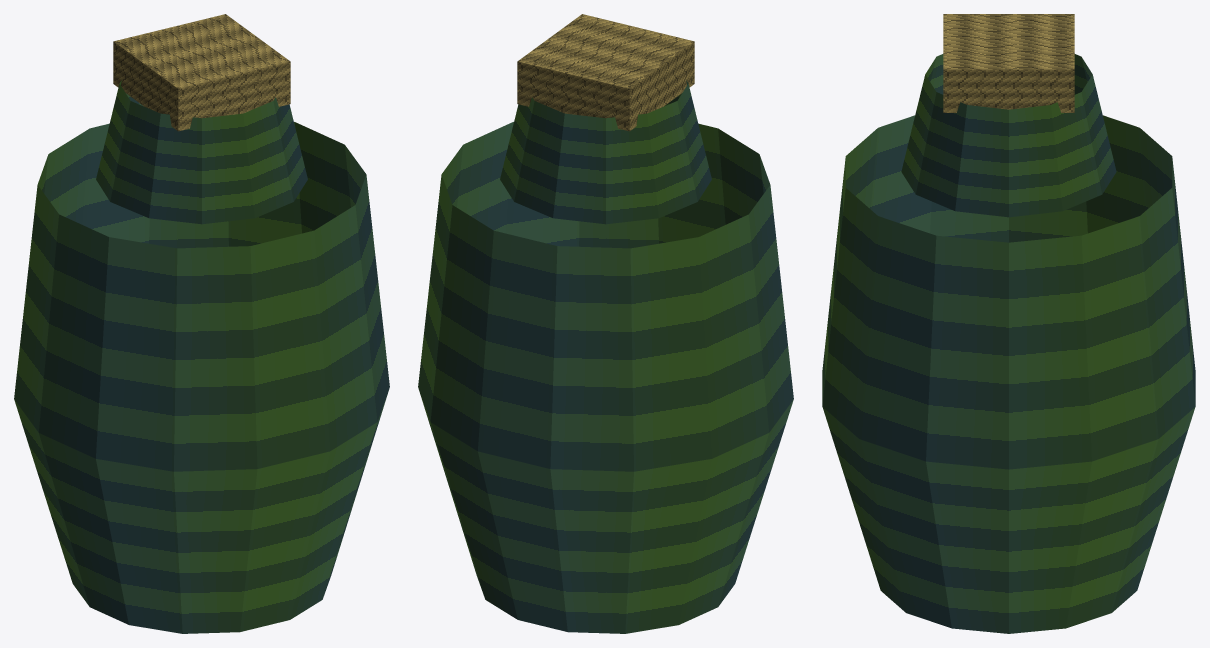
Rendered from wine_jar.glb.
3 renders of one model, left to right at view 1: azimuth 30°, elevation 25°; view 2: azimuth 150°, elevation 25°; view 3: azimuth 270°, elevation 25°, orthographic.
Visible parts, largest first — view 1: wine_jar; view 2: wine_jar; view 3: wine_jar.
Part boxes in pixels (<box>): wine_jar: <box>14,14,389,633</box>; wine_jar: <box>418,14,793,633</box>; wine_jar: <box>822,14,1195,633</box>.
Bounding box in the file's own units: 0.64 × 0.99 × 0.624.
2 materials, 2 textured.
